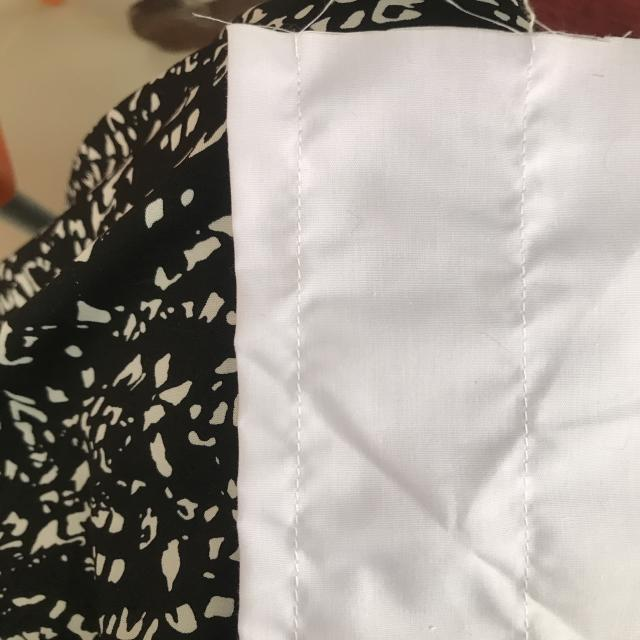good: (285, 517, 316, 626), (289, 274, 311, 405), (512, 390, 544, 476), (284, 415, 313, 498), (292, 183, 316, 256)
